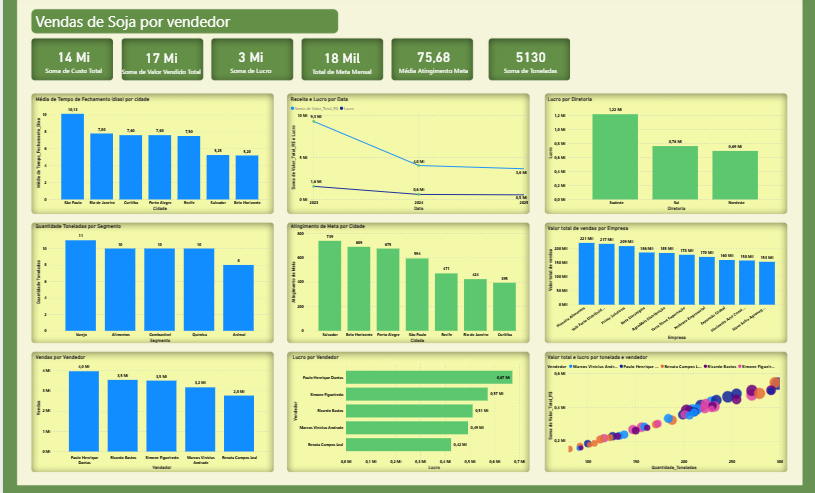

Layout of this report page (visuals, bound fields, positions):
{"tool":"powerbi","page":{"name":"Página 1","canvas":[2600,1600],"ordinal":0},"visuals":[{"type":"clusteredBarChart","fields":{"Category":["Table_1.Vendedor"],"Y":["Sum(Table_1.Lucro_R$)"]},"box":[920,1146,764,376],"z":0},{"type":"columnChart","fields":{"Category":["Table_1.Segmento"],"Y":["Count(Table_1.Quantidade_Toneladas)"]},"box":[98,726,762,388],"z":1000},{"type":"columnChart","fields":{"Category":["Table_1.Empresa"],"Y":["Sum(Table_1.Valor_Total_R$)"]},"box":[1738,732,764,374],"z":2000},{"type":"columnChart","fields":{"Category":["Table_1.Diretoria"],"Y":["Sum(Table_1.Lucro_R$)"]},"box":[1738,320,768,374],"z":3000},{"type":"lineChart","title":"Receita e Lucro por Data","fields":{"Category":["Table_1.Data_Venda"],"Y":["Sum(Table_1.Valor_Total_R$)","Sum(Table_1.Lucro_R$)"]},"box":[914,320,770,374],"z":4000},{"type":"card","fields":{"Values":["Sum(Table_1.Custo_Total_R$)"]},"box":[98,136,254,134],"z":5000},{"type":"card","fields":{"Values":["Sum(Table_1.Valor_Total_R$)"]},"box":[374,140,264,132],"z":6000},{"type":"card","fields":{"Values":["Sum(Table_1.Meta_Mensal_R$)"]},"box":[958,140,256,132],"z":7000},{"type":"card","fields":{"Values":["Avg(Table_1.Atingimento_Meta_%)"]},"box":[1248,138,260,132],"z":8000},{"type":"card","fields":{"Values":["Sum(Table_1.Quantidade_Toneladas)"]},"box":[1558,136,260,132],"z":9000},{"type":"columnChart","fields":{"Category":["Table_1.Vendedor"],"Y":["Sum(Table_1.Valor_Total_R$)"]},"box":[98,1146,762,376],"z":10000},{"type":"columnChart","fields":{"Category":["Table_1.Cidade"],"Y":["Sum(Table_1.Atingimento_Meta_%)"]},"box":[914,726,770,388],"z":11000},{"type":"columnChart","title":"Média de Tempo de Fechamento (dias) por cidade","fields":{"Category":["Table_1.Cidade"],"Y":["Avg(Table_1.Tempo_Fechamento_Dias)"]},"box":[98,320,762,374],"z":12000},{"type":"scatterChart","title":"Valor total e lucro por tonelada e vendedor","fields":{"Y":["Sum(Table_1.Valor_Total_R$)"],"X":["Table_1.Quantidade_Toneladas"],"Size":["Sum(Table_1.Lucro_R$)"],"Series":["Table_1.Vendedor"]},"box":[1738,1146,764,376],"z":13000},{"type":"card","fields":{"Values":["Sum(Table_1.Lucro_R$)"]},"box":[662,138,262,134],"z":14000},{"type":"textbox","box":[98.3,40,658.3,83.3],"z":15000}]}

Visuals, with their boxes in screenshot pixels (x1, y1, x2, y2), scaled from the page's 2600x1600 canvas onto the 815x493 screenshot:
clusteredBarChart - Table_1.Vendedor x Sum(Table_1.Lucro_R$): l=288, t=353, r=528, b=469
columnChart - Table_1.Segmento x Count(Table_1.Quantidade_Toneladas): l=31, t=224, r=270, b=343
columnChart - Table_1.Empresa x Sum(Table_1.Valor_Total_R$): l=545, t=226, r=784, b=341
columnChart - Table_1.Diretoria x Sum(Table_1.Lucro_R$): l=545, t=99, r=786, b=214
"Receita e Lucro por Data" lineChart: l=287, t=99, r=528, b=214
card - Sum(Table_1.Custo_Total_R$): l=31, t=42, r=110, b=83
card - Sum(Table_1.Valor_Total_R$): l=117, t=43, r=200, b=84
card - Sum(Table_1.Meta_Mensal_R$): l=300, t=43, r=381, b=84
card - Avg(Table_1.Atingimento_Meta_%): l=391, t=43, r=473, b=83
card - Sum(Table_1.Quantidade_Toneladas): l=488, t=42, r=570, b=83
columnChart - Table_1.Vendedor x Sum(Table_1.Valor_Total_R$): l=31, t=353, r=270, b=469
columnChart - Table_1.Cidade x Sum(Table_1.Atingimento_Meta_%): l=287, t=224, r=528, b=343
"Média de Tempo de Fechamento (dias) por cidade" columnChart: l=31, t=99, r=270, b=214
"Valor total e lucro por tonelada e vendedor" scatterChart: l=545, t=353, r=784, b=469
card - Sum(Table_1.Lucro_R$): l=208, t=43, r=290, b=84
textbox: l=31, t=12, r=237, b=38
